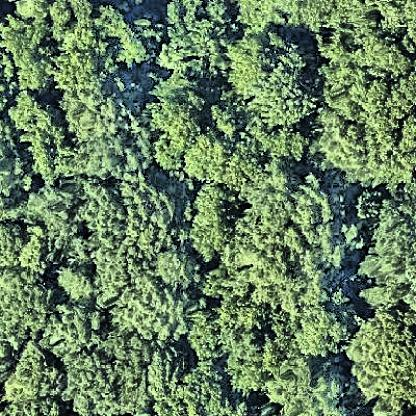tree-top: (220, 174, 361, 310), (312, 70, 412, 184), (80, 174, 180, 253), (342, 311, 416, 414), (354, 189, 416, 308), (60, 343, 144, 416), (158, 0, 231, 84), (220, 27, 309, 95), (112, 268, 196, 340), (145, 87, 207, 179), (84, 4, 159, 77), (266, 353, 352, 416), (140, 360, 236, 416), (184, 180, 242, 262), (61, 78, 129, 146), (2, 341, 66, 413), (8, 18, 60, 97), (249, 71, 315, 132), (288, 298, 352, 360), (0, 262, 53, 336), (38, 299, 101, 359), (21, 179, 82, 240), (50, 266, 99, 340), (58, 21, 109, 86), (361, 10, 416, 67), (221, 344, 278, 396), (0, 146, 34, 228), (0, 218, 48, 276), (227, 0, 316, 31), (151, 243, 204, 289), (7, 88, 56, 134), (54, 260, 96, 302), (376, 2, 416, 45)
